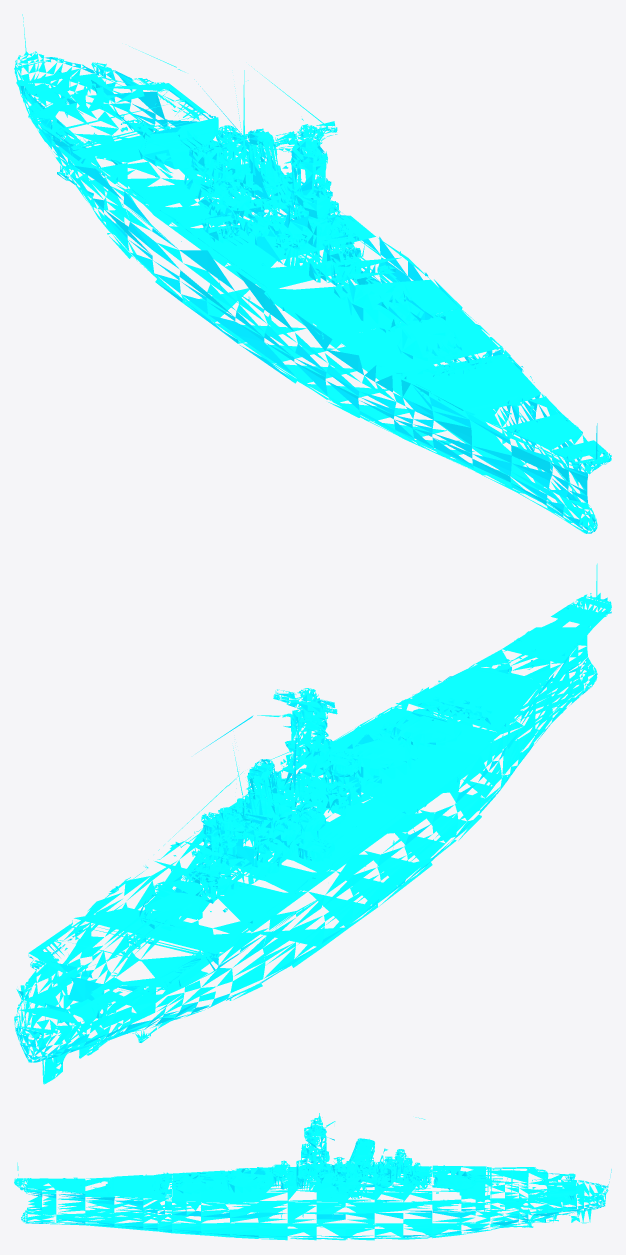
Rendered from PJSB509.glb.
3 views of the same model, one above another, from view 1: azimuth 30°, elevation 25°; view 2: azimuth 150°, elevation 25°; view 3: azimuth 270°, elevation 25° (orthographic). The views are drawn at different scales.
Visible parts, largest first — view 1: hull_mid, hull_bow, hull_stern, main_battery, secondary_battery, hull_body, aa_mount; view 2: hull_mid, hull_stern, hull_bow, main_battery, secondary_battery, hull_body, aa_mount; view 3: hull_mid, hull_bow, hull_stern, main_battery, secondary_battery, hull_body, aa_mount.
Part boxes in pixels (left/top/right/bottom): hull_mid: left=122, top=66, right=462, bottom=402; hull_bow: left=325, top=308, right=611, bottom=533; hull_stern: left=14, top=14, right=266, bottom=259; main_battery: left=116, top=107, right=471, bottom=371; secondary_battery: left=180, top=137, right=369, bottom=266; hull_body: left=208, top=118, right=337, bottom=149; aa_mount: left=204, top=138, right=347, bottom=246; hull_mid: left=108, top=702, right=461, bottom=985; hull_stern: left=14, top=771, right=268, bottom=1084; hull_bow: left=327, top=563, right=611, bottom=842; main_battery: left=116, top=693, right=482, bottom=940; secondary_battery: left=180, top=745, right=369, bottom=881; hull_body: left=208, top=688, right=337, bottom=830; aa_mount: left=204, top=776, right=347, bottom=847; hull_mid: left=221, top=1121, right=449, bottom=1240; hull_bow: left=14, top=1162, right=229, bottom=1237; hull_stern: left=415, top=1117, right=611, bottom=1238; main_battery: left=148, top=1167, right=502, bottom=1192; secondary_battery: left=261, top=1159, right=442, bottom=1197; hull_body: left=309, top=1113, right=406, bottom=1162; aa_mount: left=302, top=1156, right=411, bottom=1183.
Size of the model in its own units: 2.61 by 3.51 by 17.65.
